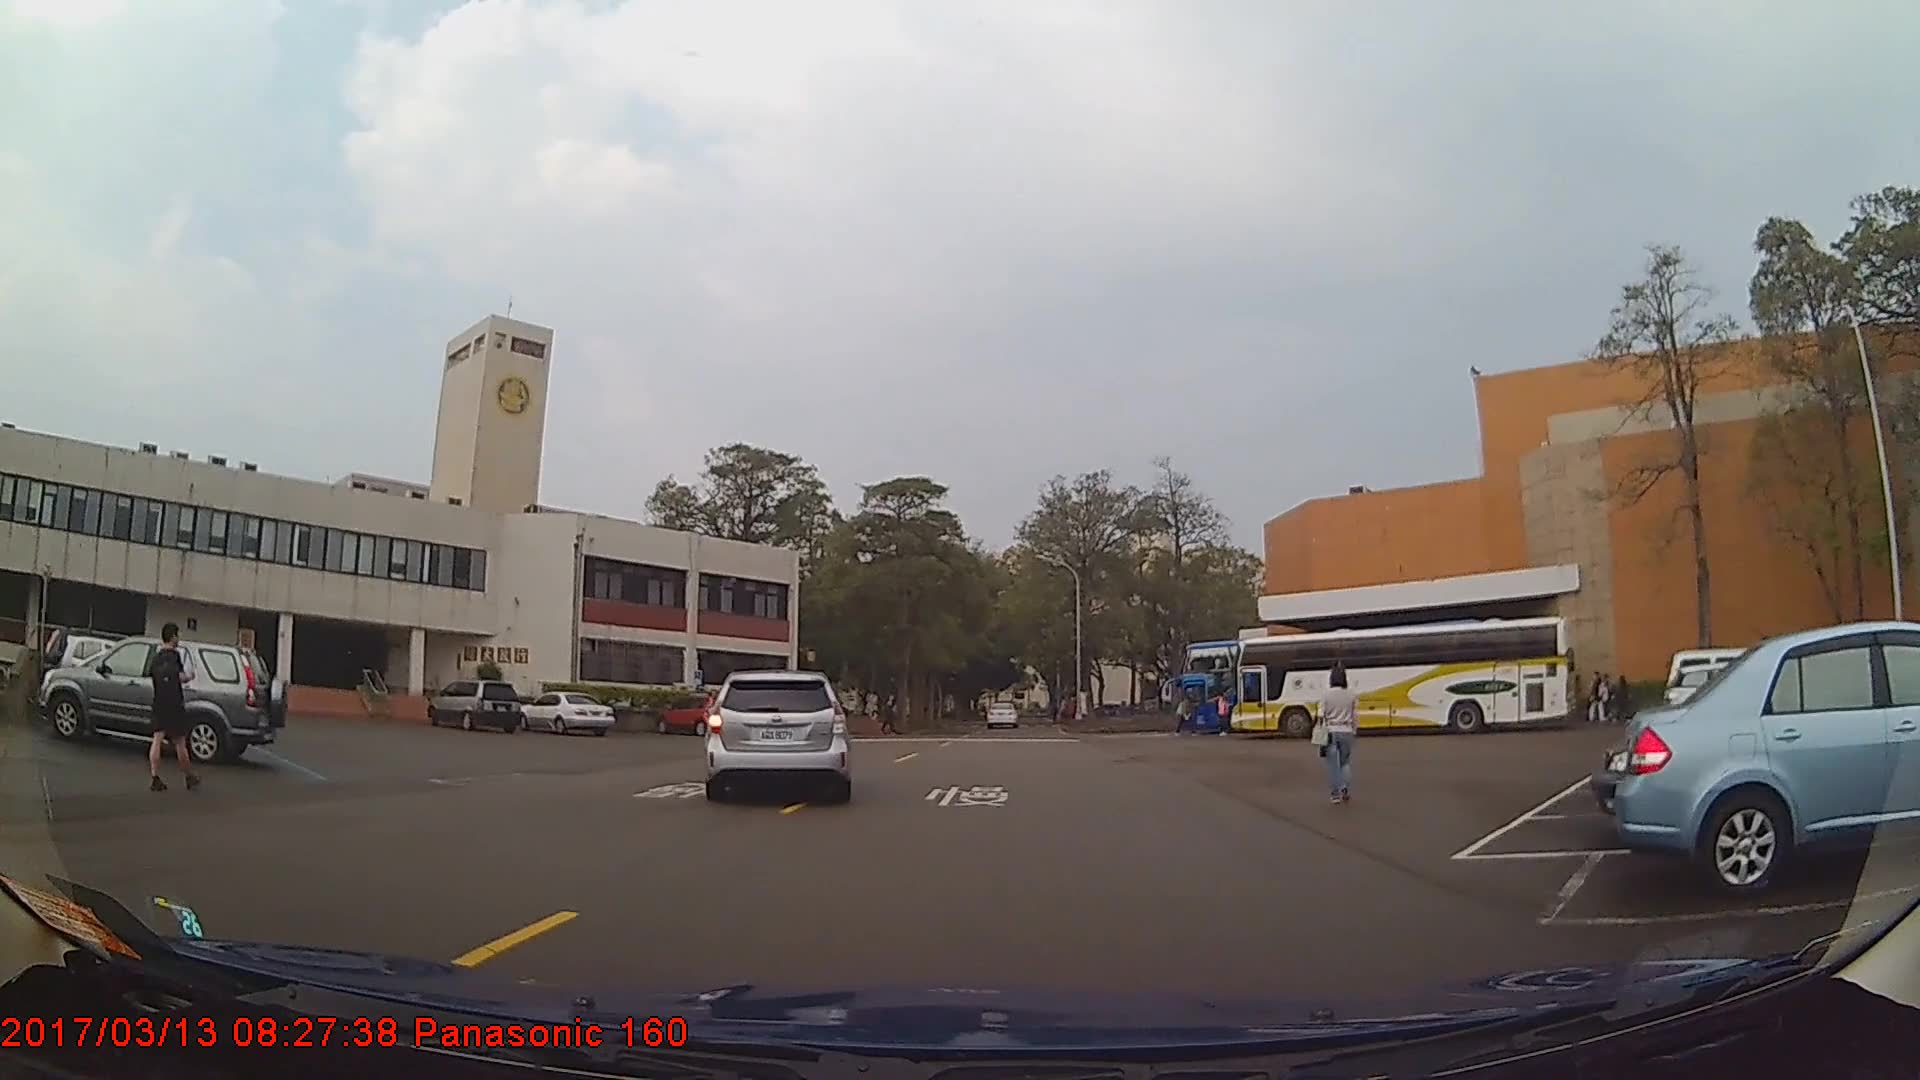pedestrian: (140, 619, 195, 791), (1310, 670, 1359, 806), (1606, 669, 1638, 726)
vehicle: (1616, 620, 1920, 899), (1227, 614, 1573, 741), (39, 635, 288, 764), (1173, 640, 1448, 735), (707, 668, 848, 801), (426, 678, 521, 732), (514, 691, 616, 736), (655, 692, 730, 736), (986, 702, 1019, 729)
